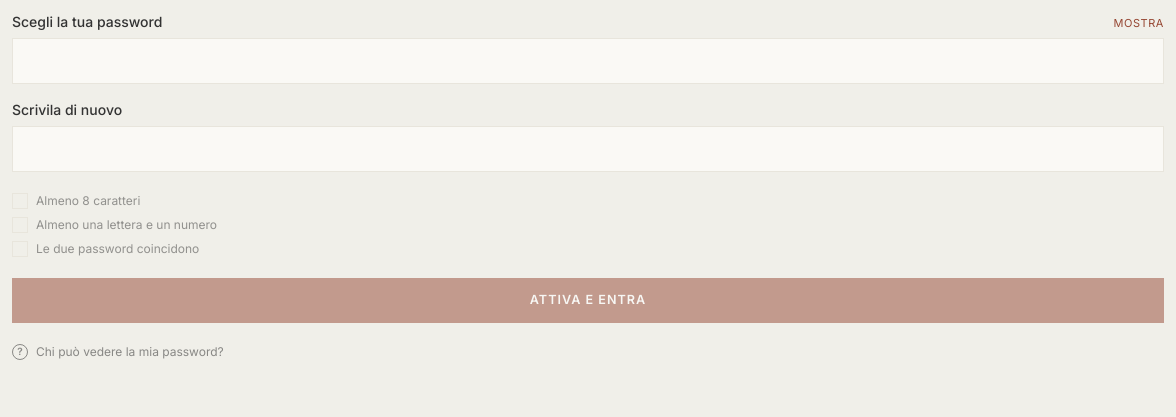
Test: ActivationForm — errore di signIn dopo l'attivazione › un errore inatteso mostra il testo generico, non il testo grezzo
Type "Password123" into the password field labelled "Scegli la tua password" at (588, 61), box [12, 38, 1164, 84]
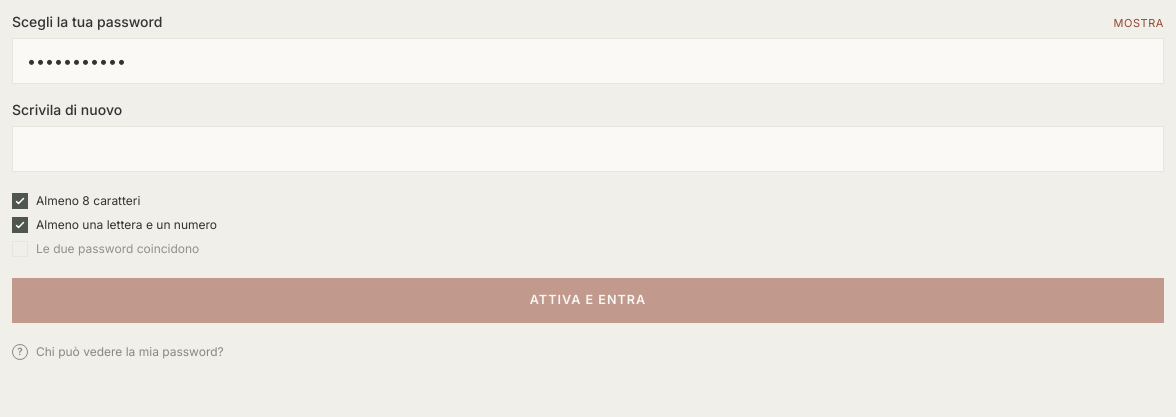
Type "Password123" into the password field labelled "Scrivila di nuovo" at (588, 149), box [12, 126, 1164, 172]
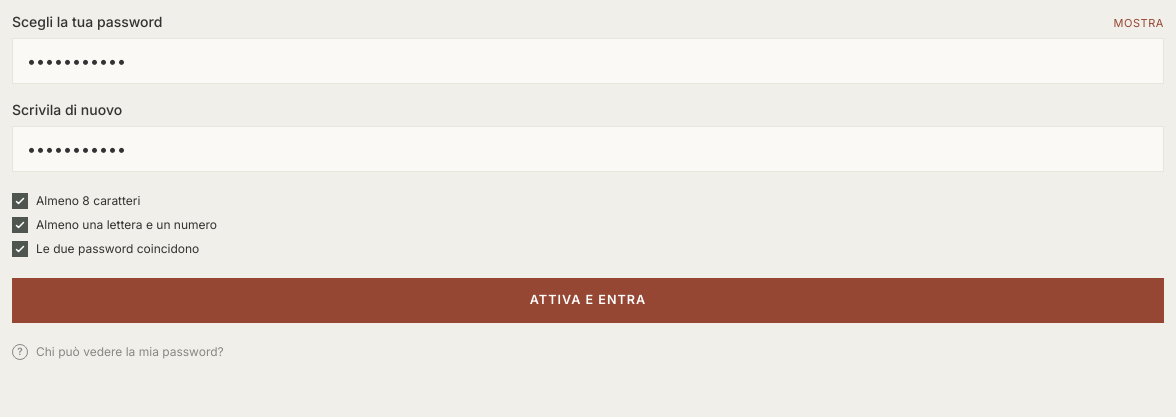
Click the button "Attiva e entra" at (588, 300), box [12, 278, 1164, 323]
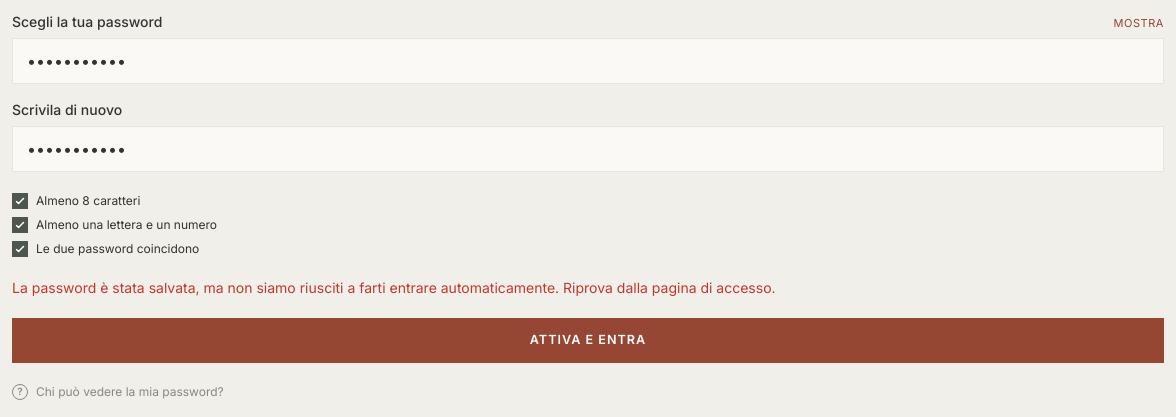
Check: the text "non siamo riusciti a farti entrare automaticamente" is shown, box [12, 279, 776, 296]
